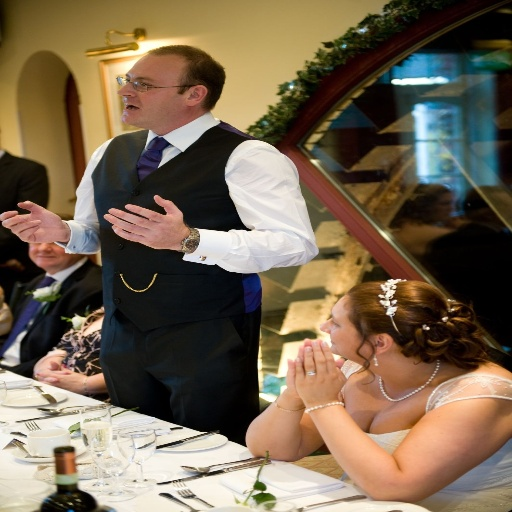hand: (97, 195, 206, 251), (286, 338, 345, 400), (298, 337, 347, 404), (0, 199, 68, 245), (34, 364, 88, 393), (34, 359, 74, 383)
